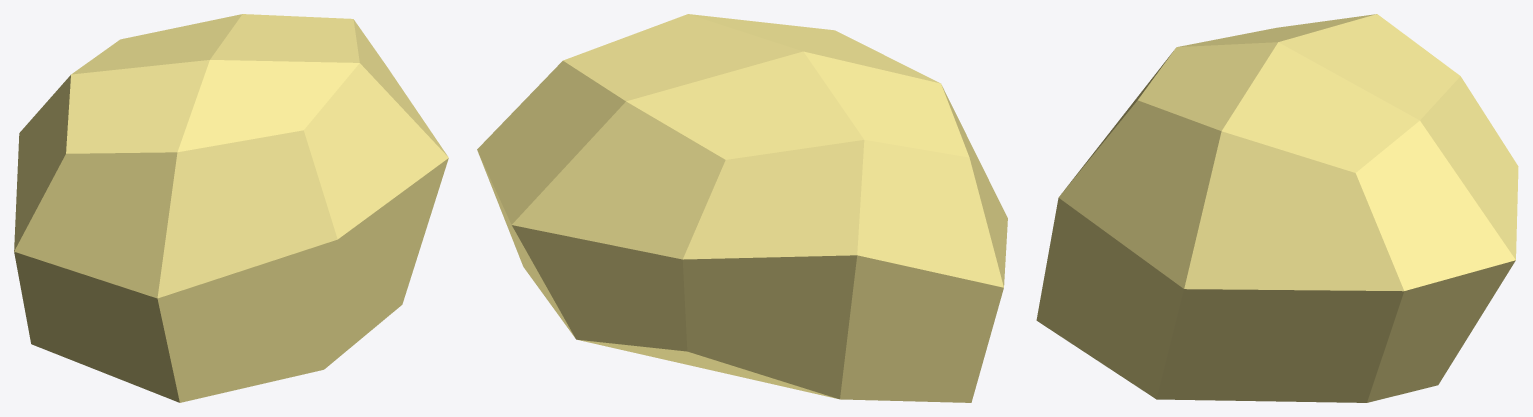
Rendered from Rock02.fbx.
The picture shows the model from 3 angles, left to right: view 1: azimuth 30°, elevation 25°; view 2: azimuth 150°, elevation 25°; view 3: azimuth 270°, elevation 25°; orthographic projection. The views are drawn at different scales.
Visible parts, largest first — view 1: Cube.012; view 2: Cube.012; view 3: Cube.012.
Boxes of the visible parts, left/top/right/bottom form: Cube.012: left=14, top=14, right=448, bottom=402; Cube.012: left=477, top=14, right=1007, bottom=402; Cube.012: left=1036, top=14, right=1518, bottom=402.
Bounding box in the file's own units: 946 × 643 × 819.
